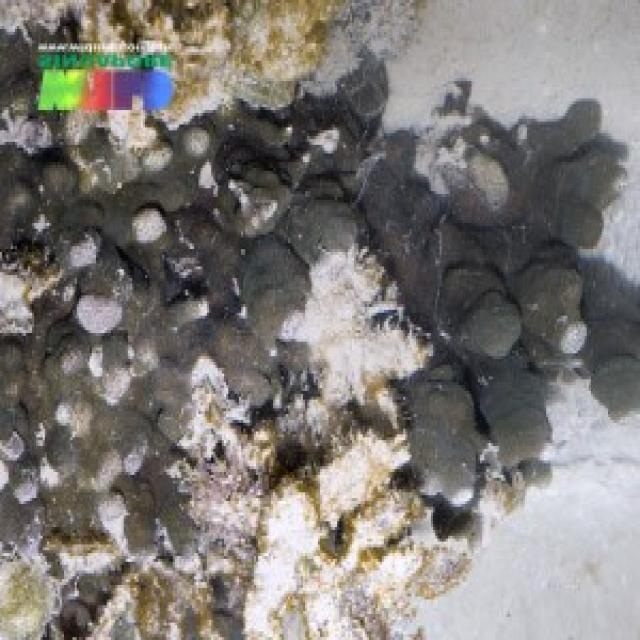Bleached: (183, 357, 530, 640), (3, 1, 357, 103), (281, 252, 428, 411), (3, 562, 194, 640)
Healthy: (1, 101, 640, 566)
